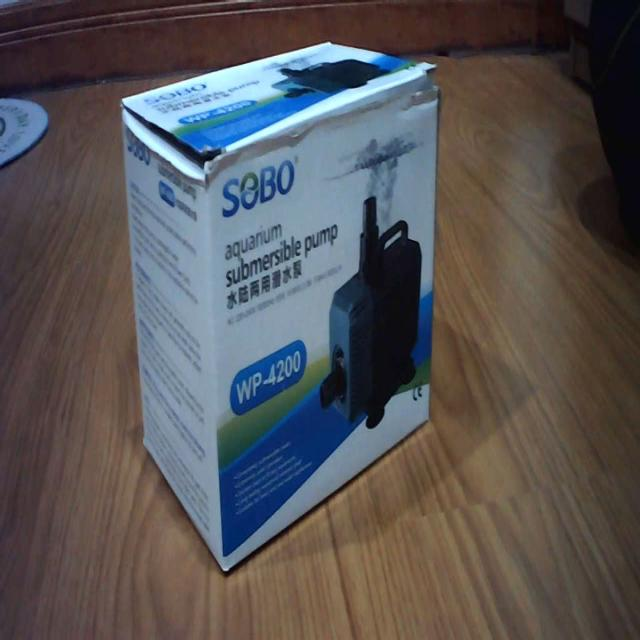SOBO_WP_4200: (120, 40, 443, 580)
